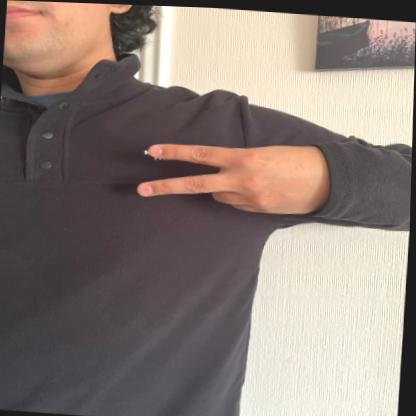H: (134, 133, 334, 221)
